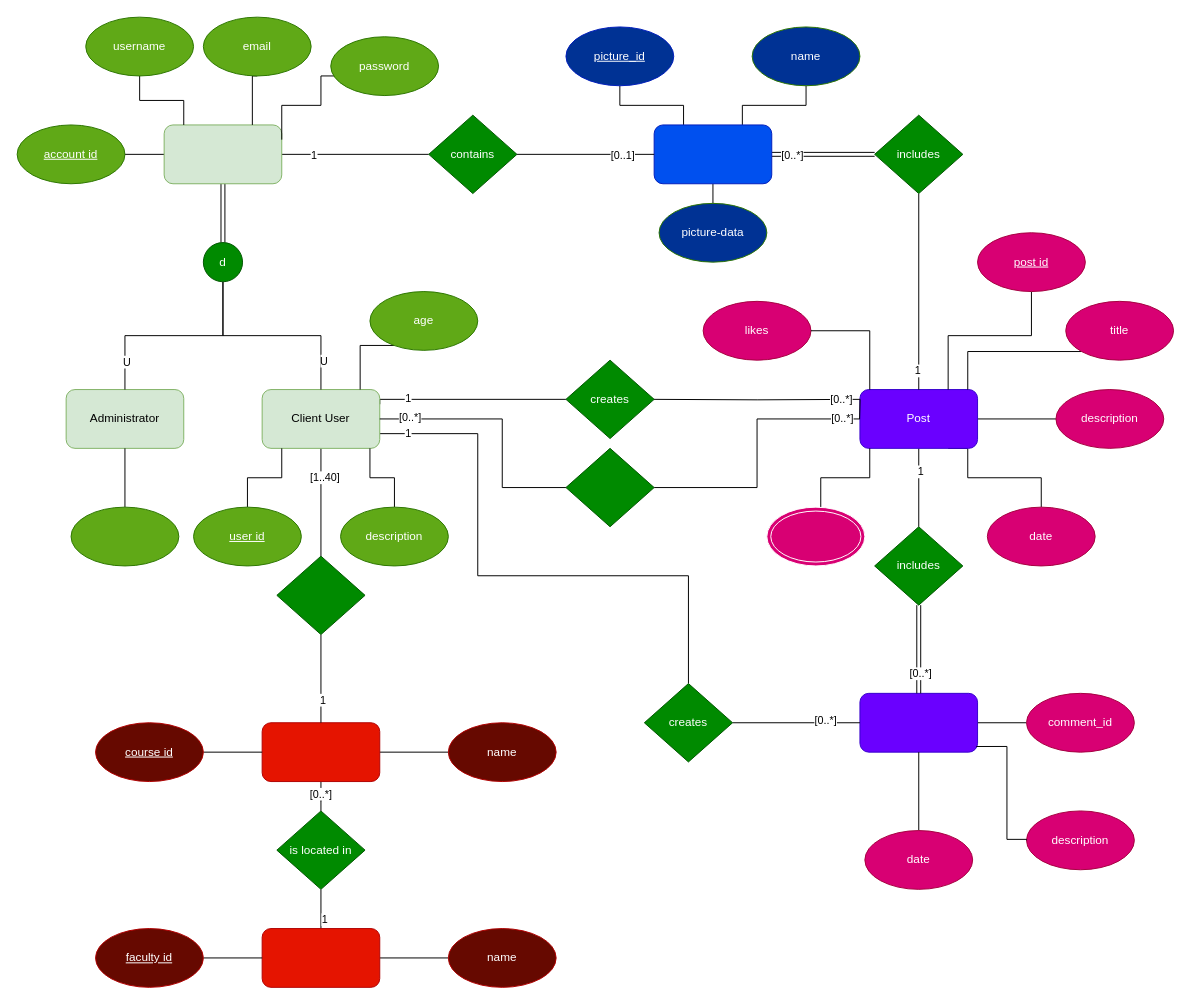
The diagram is 1191 pixels wide and 1005 high, and some of its shapes have lost their labels. Here are the shapes that lost their labels. From the top down, the centre of each, then its label:
the point at 222,154: Account
the point at 712,154: Picture
the point at 609,487: saves
the point at 124,536: admin id
the point at 815,536: tags
the point at 320,595: studies in
the point at 918,722: Comment
the point at 320,752: Course
the point at 320,957: Faculty
